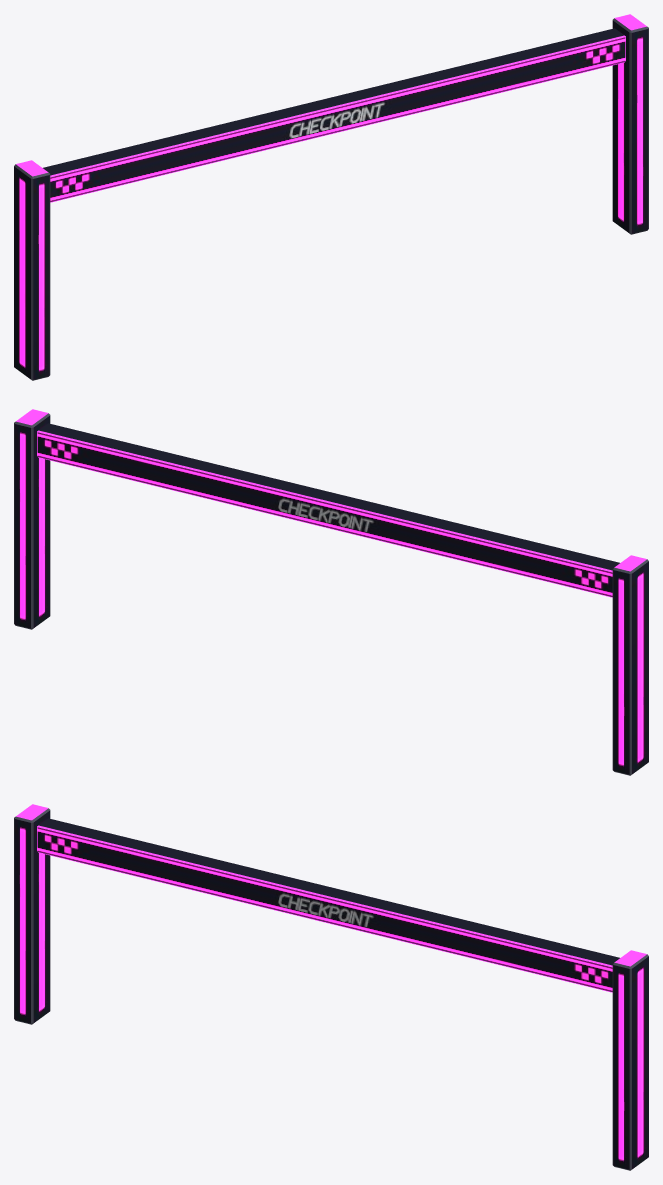
Rendered from gate-checkpoint.glb.
3 views of the same model, one above another, from view 1: azimuth 30°, elevation 25°; view 2: azimuth 150°, elevation 25°; view 3: azimuth 330°, elevation 25° (orthographic).
Parts seen in each view (by area): view 1: gate-checkpoint; view 2: gate-checkpoint; view 3: gate-checkpoint.
Boxes of the visible parts, x1,y1,x2,y2 form: gate-checkpoint: [14, 14, 648, 380]; gate-checkpoint: [14, 409, 648, 775]; gate-checkpoint: [14, 804, 648, 1170].
Bounding box in the file's own units: 19 × 6 × 1.
1 material, 1 textured.
